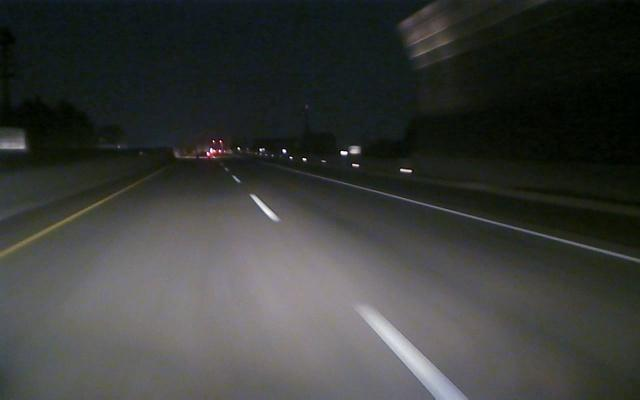lane: (249, 195, 475, 400), (349, 183, 639, 264), (1, 207, 90, 258)
